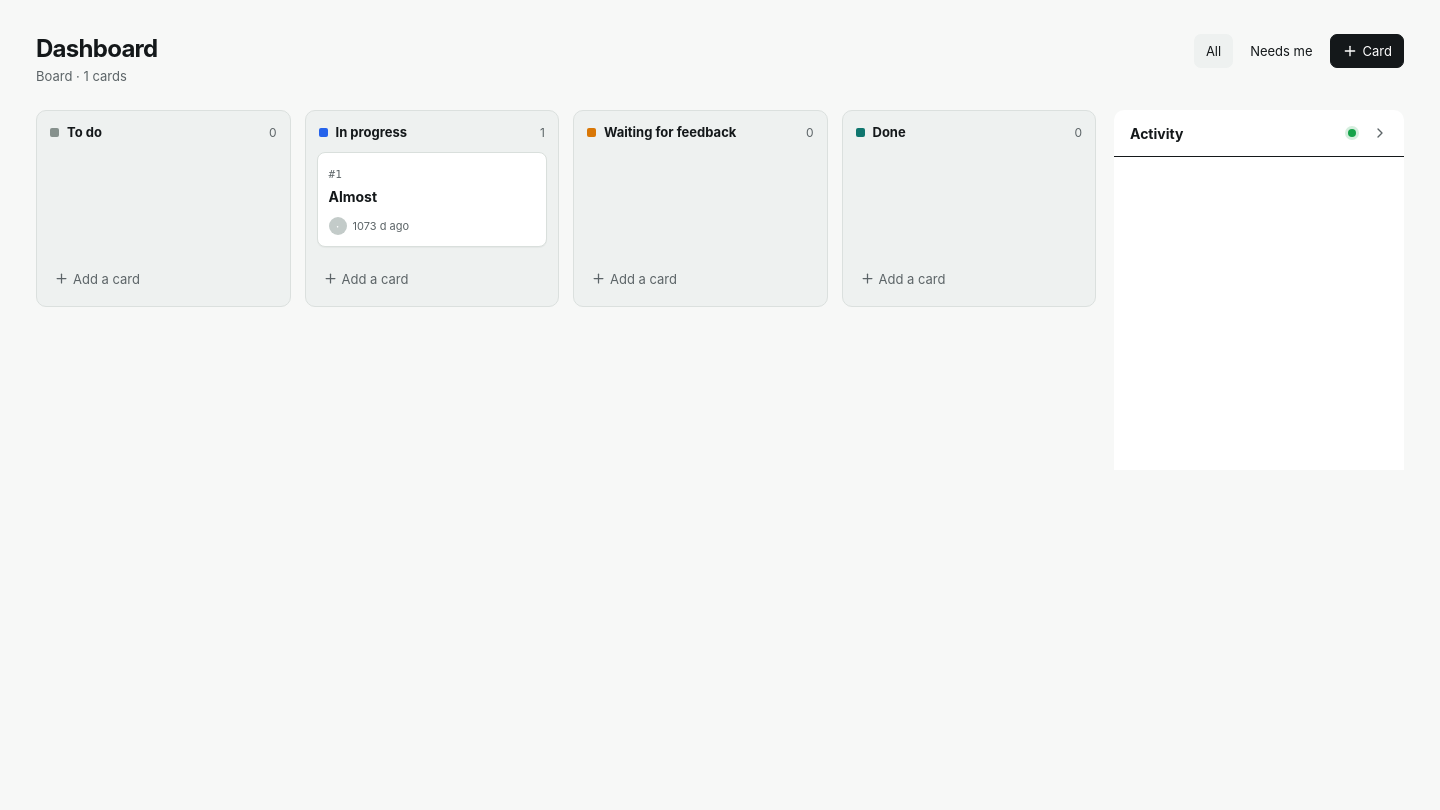
Scenario: BoardView › REQ-BOARD-007 moving into Waiting asks for a question
Press ArrowRight in the button with test id "board-card-1", box 316,152 -> 547,247
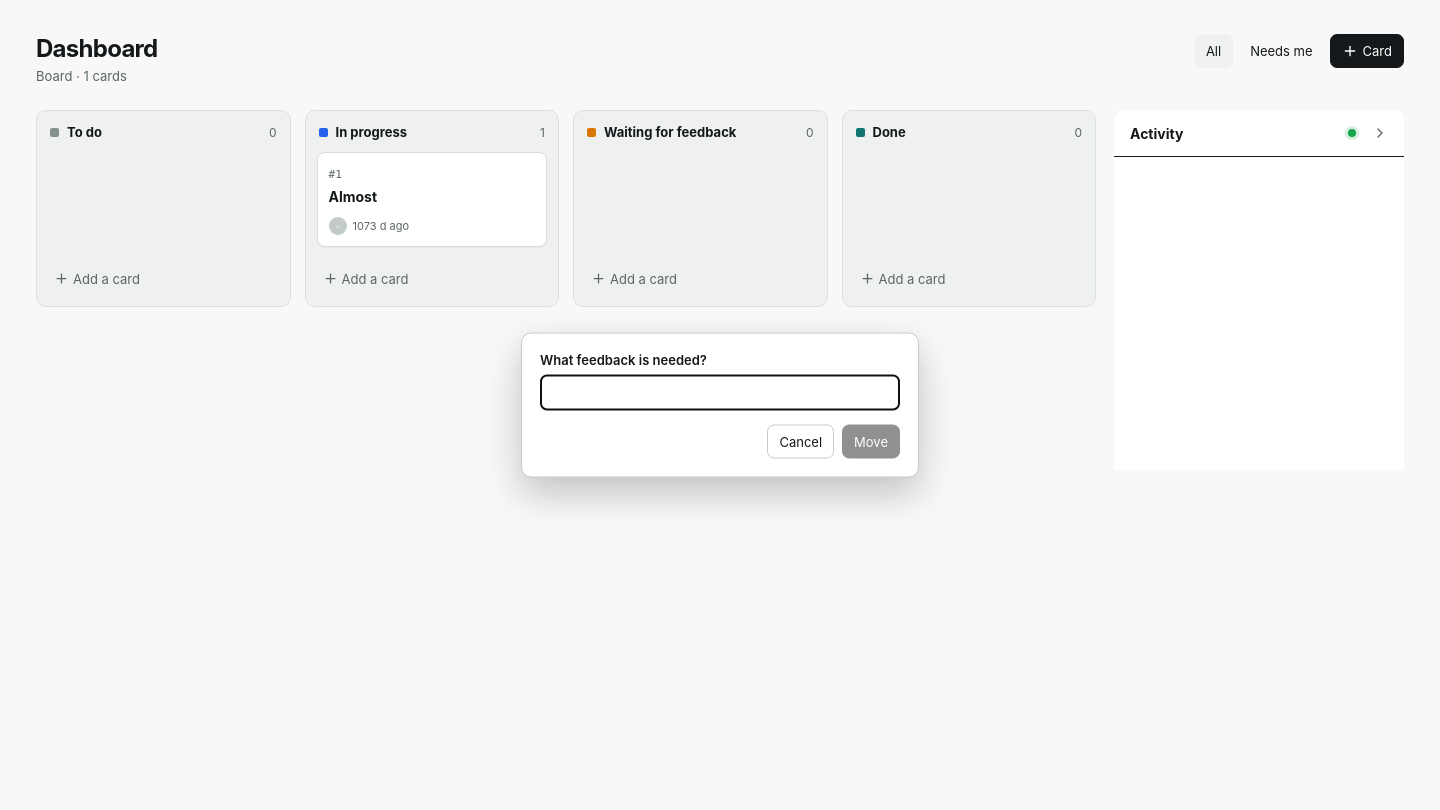
Expected: the dialog named "Feedback question" is shown, 521,332 -> 919,478
Type "Ship it?" into the field at (720, 392), box 540,374 -> 900,410
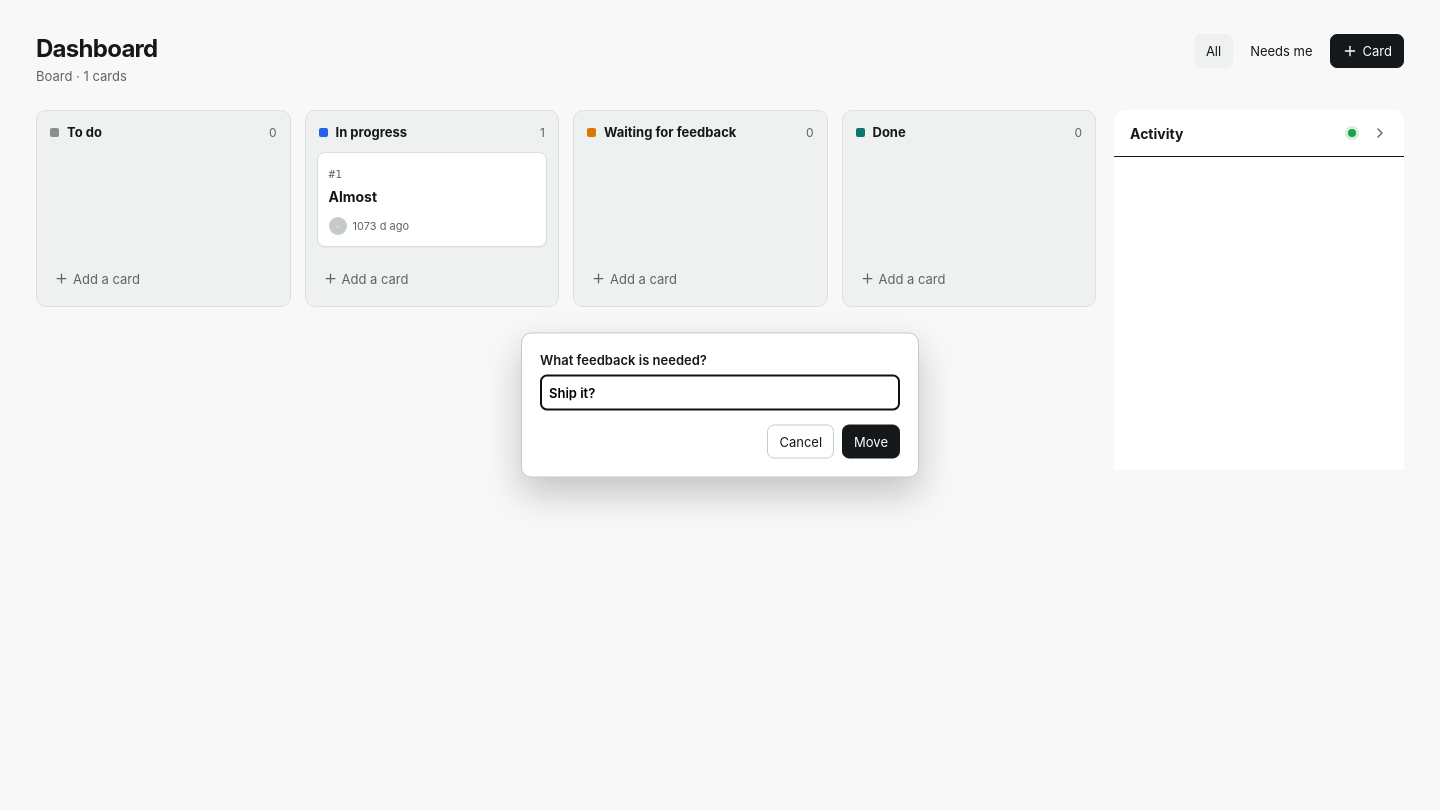
Click the button "Move" at (871, 442), box 842,424 -> 900,458
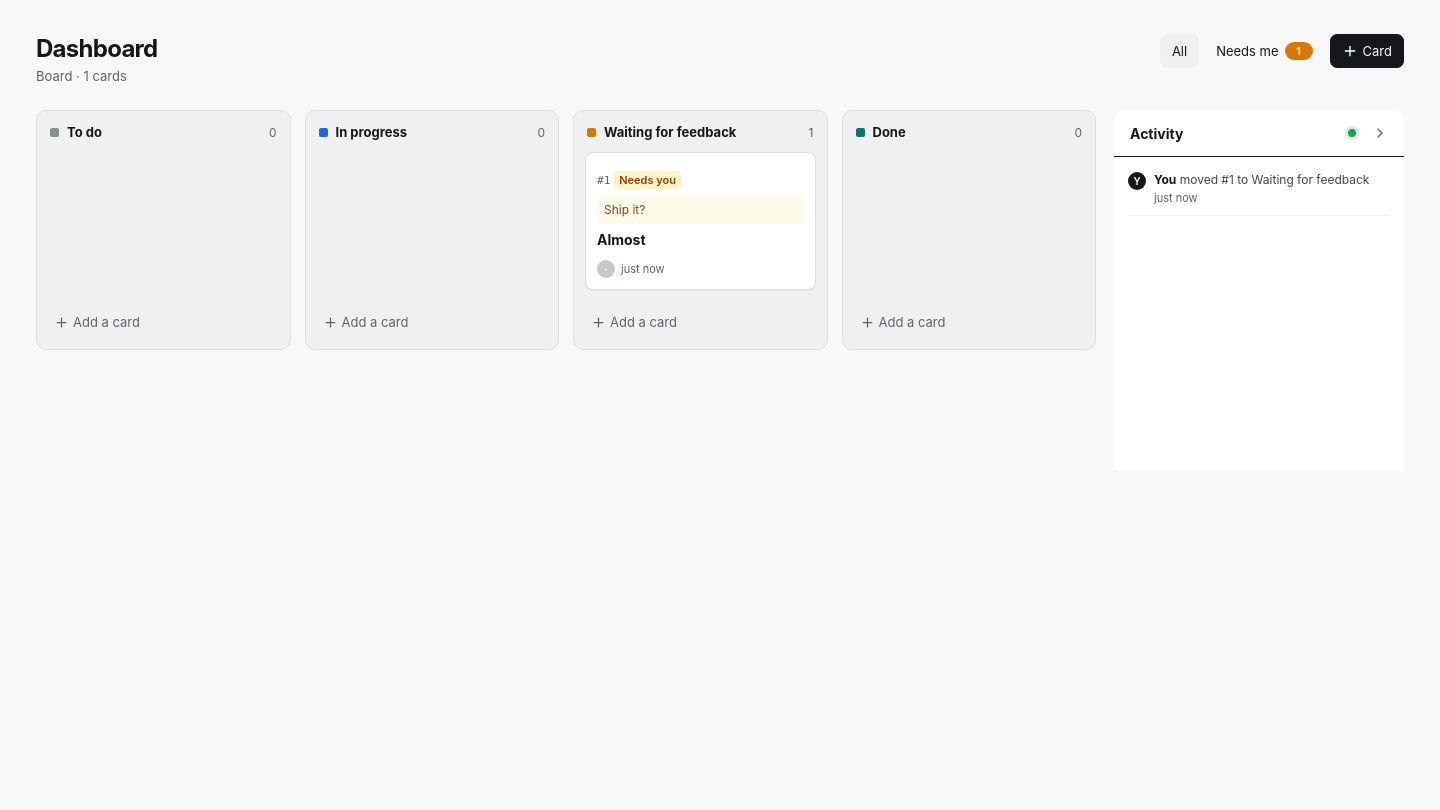
Expected: the text "Ship it?" is shown, 597,196 -> 804,224
